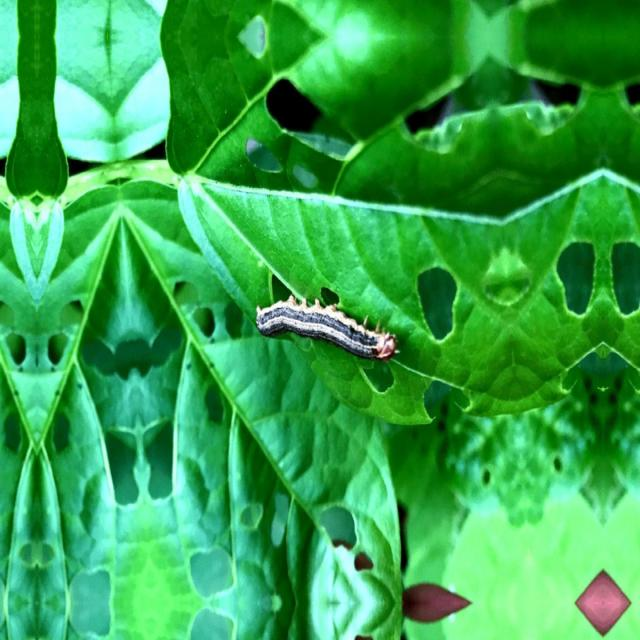Armyworm: (241, 292, 393, 375)
Armyworm_damage: (249, 65, 368, 194), (293, 480, 368, 579), (411, 254, 469, 366), (64, 545, 132, 640), (554, 227, 605, 339), (179, 530, 238, 610), (610, 218, 640, 340), (37, 321, 79, 392), (353, 535, 391, 598), (6, 328, 40, 391), (191, 294, 226, 353), (158, 264, 200, 309)
